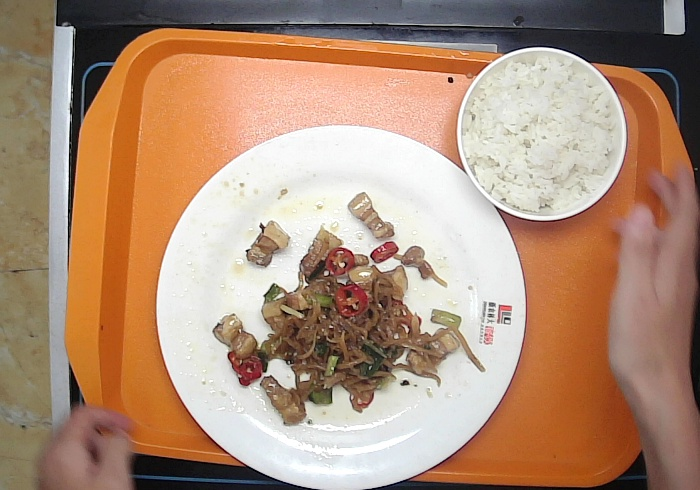ZNLD-Da_Yuan_Pan: (153, 123, 525, 488)
ZNLD-Fan_Wan: (458, 45, 630, 219)
